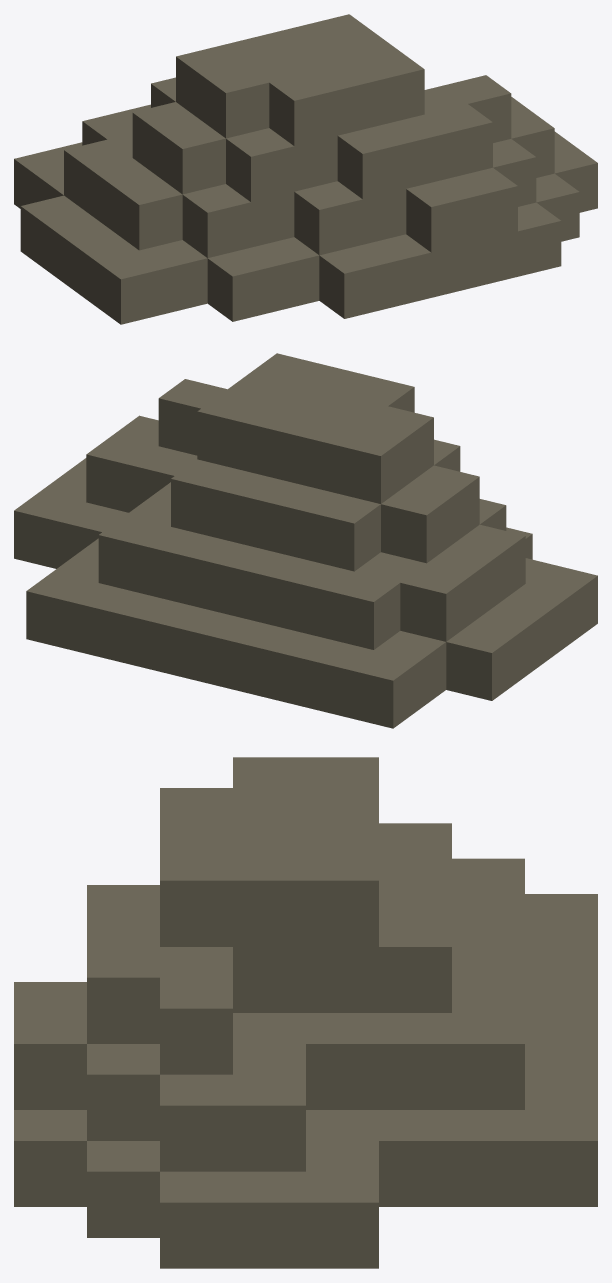
Rendered from stone1.vox.obj.
3 views of the same model, one above another, from view 1: azimuth 30°, elevation 25°; view 2: azimuth 150°, elevation 25°; view 3: azimuth 270°, elevation 25° (orthographic). The views are drawn at different scales.
Bounding box in the file's own units: 1.1 × 0.4 × 0.8.
Materials: 1 (1 with a texture image).
